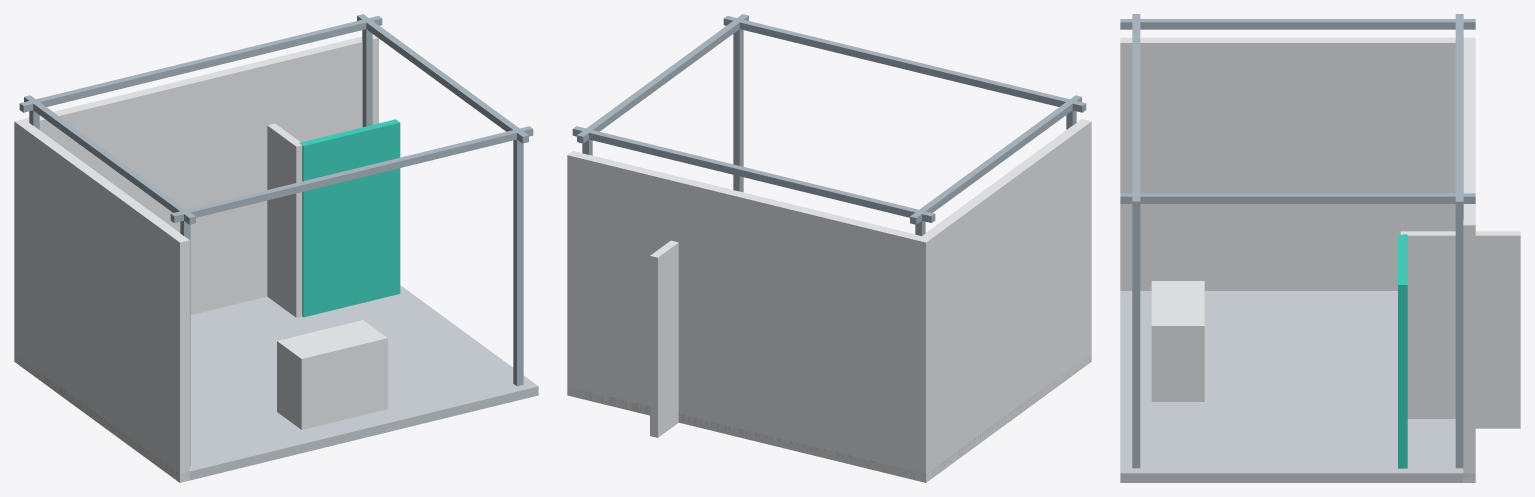
3 renders of one model, left to right at view 1: azimuth 30°, elevation 25°; view 2: azimuth 150°, elevation 25°; view 3: azimuth 270°, elevation 25°, orthographic. The views are drawn at different scales.
Parts seen in each view (by area): view 1: Exhibition Booth Concept; view 2: Exhibition Booth Concept; view 3: Exhibition Booth Concept.
Part boxes in pixels (left/top/right/bottom): Exhibition Booth Concept: left=14, top=14, right=538, bottom=482; Exhibition Booth Concept: left=567, top=14, right=1091, bottom=482; Exhibition Booth Concept: left=1120, top=14, right=1520, bottom=482.
Size of the model in its own units: 5 by 3.49 by 4.51.
